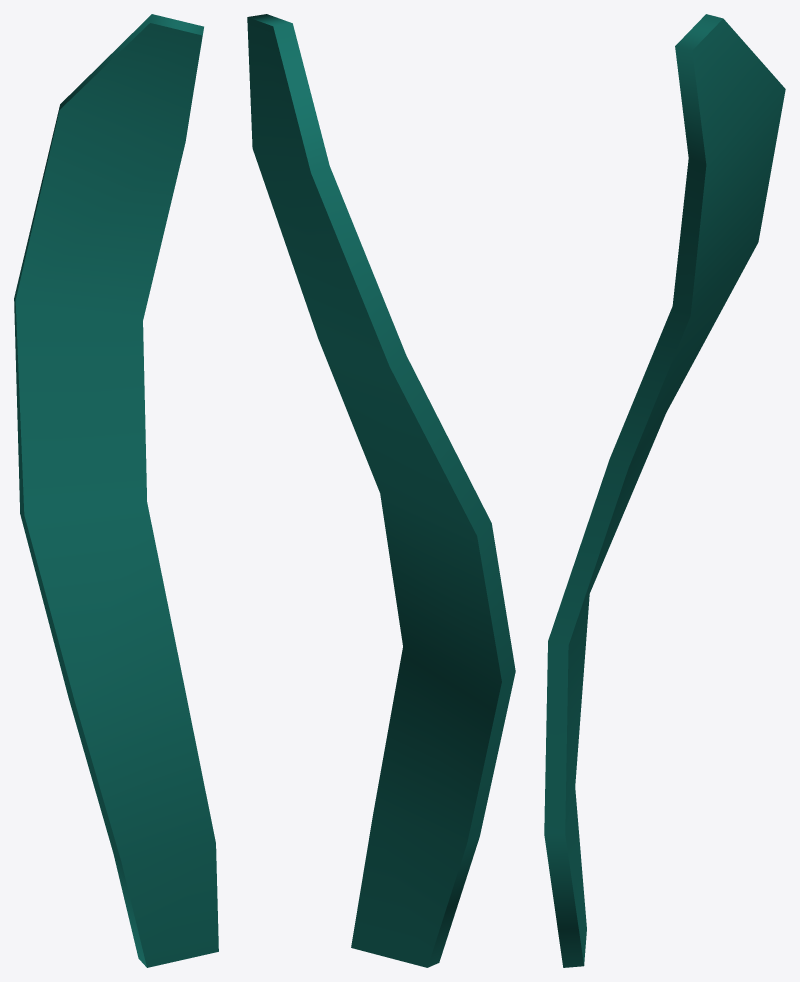
Rendered from Sea_plant_5_1.002.fbx.
The picture shows the model from 3 angles, left to right: view 1: azimuth 30°, elevation 25°; view 2: azimuth 150°, elevation 25°; view 3: azimuth 270°, elevation 25°; orthographic projection. The views are drawn at different scales.
Parts seen in each view (by area): view 1: Sea_plant_5_1.002; view 2: Sea_plant_5_1.002; view 3: Sea_plant_5_1.002.
Part boxes in pixels (<box>): Sea_plant_5_1.002: <box>14,14,218,967</box>; Sea_plant_5_1.002: <box>247,14,515,967</box>; Sea_plant_5_1.002: <box>544,14,785,967</box>.
Bounding box in the file's own units: 0.3563 × 1.5 × 0.3434.
